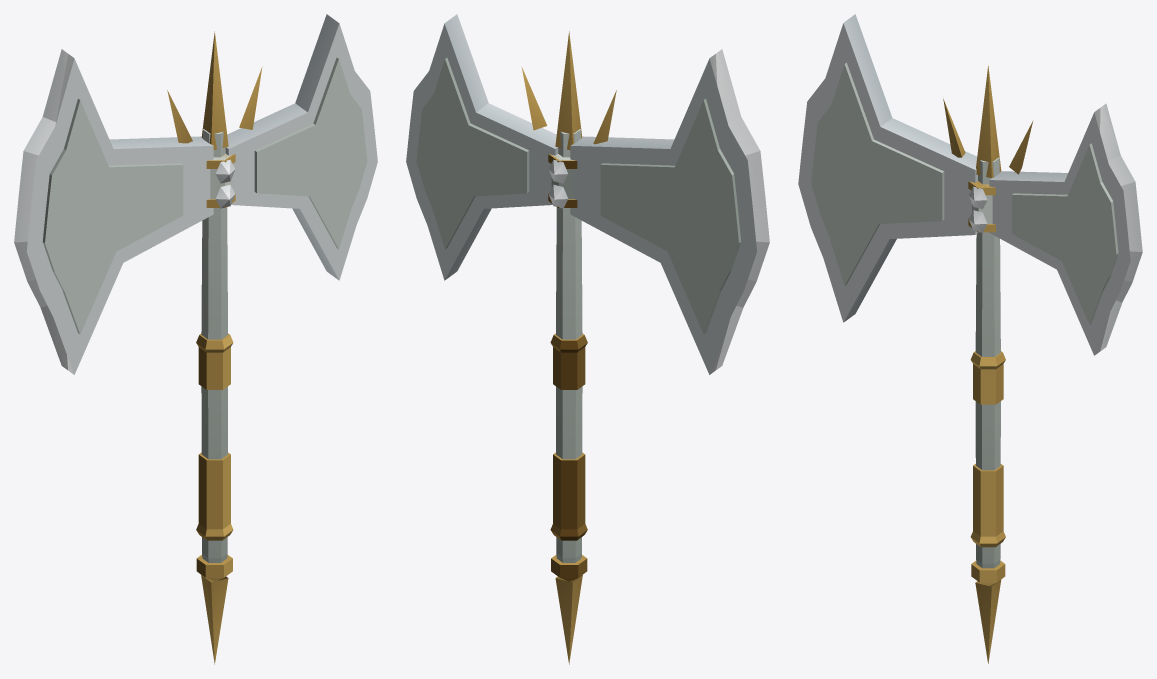
The model's file is barb_axe_4.gltf.
The picture shows the model from 3 angles, left to right: view 1: azimuth 30°, elevation 25°; view 2: azimuth 150°, elevation 25°; view 3: azimuth 330°, elevation 25°; orthographic projection. The views are drawn at different scales.
Parts seen in each view (by area): view 1: barb_axe_4; view 2: barb_axe_4; view 3: barb_axe_4.
Part boxes in pixels (bbox=[...]): barb_axe_4: bbox=[14, 14, 377, 664]; barb_axe_4: bbox=[406, 14, 769, 664]; barb_axe_4: bbox=[798, 14, 1142, 663].
Bounding box in the file's own units: 1.41 × 2.49 × 0.206.
Materials: 1 (1 with a texture image).
